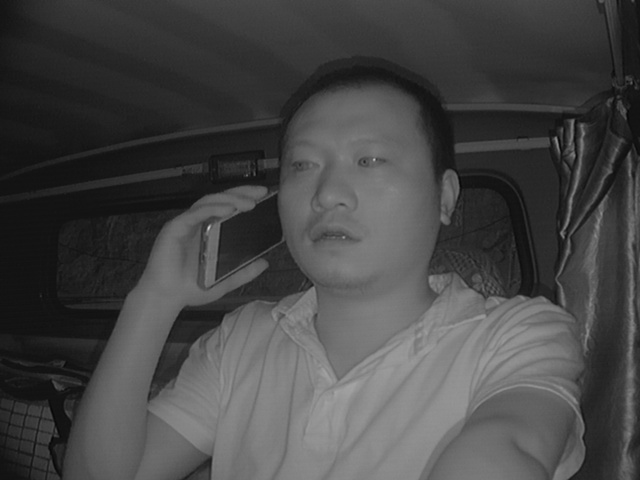hand: (149, 183, 274, 302)
